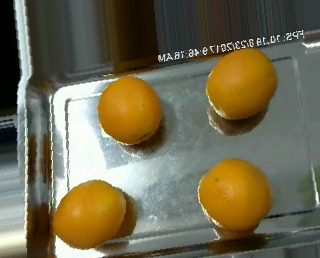Orange: (197, 156, 274, 231), (50, 178, 127, 249), (205, 47, 279, 119), (97, 76, 161, 146)
